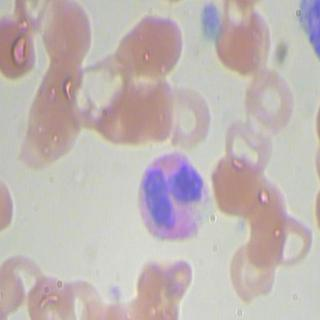Platelets: (198, 0, 220, 40), (105, 278, 126, 302)
RBC: (114, 8, 187, 80), (213, 0, 281, 76), (239, 54, 297, 134), (207, 146, 265, 226), (160, 78, 218, 156), (217, 98, 275, 176), (38, 0, 99, 72), (98, 74, 147, 146), (12, 100, 61, 172), (227, 234, 277, 302), (265, 206, 315, 274), (240, 166, 289, 234), (239, 202, 288, 270), (0, 8, 40, 84), (0, 248, 49, 306), (21, 272, 66, 320), (62, 272, 106, 320)
WBC: (130, 146, 212, 254)
